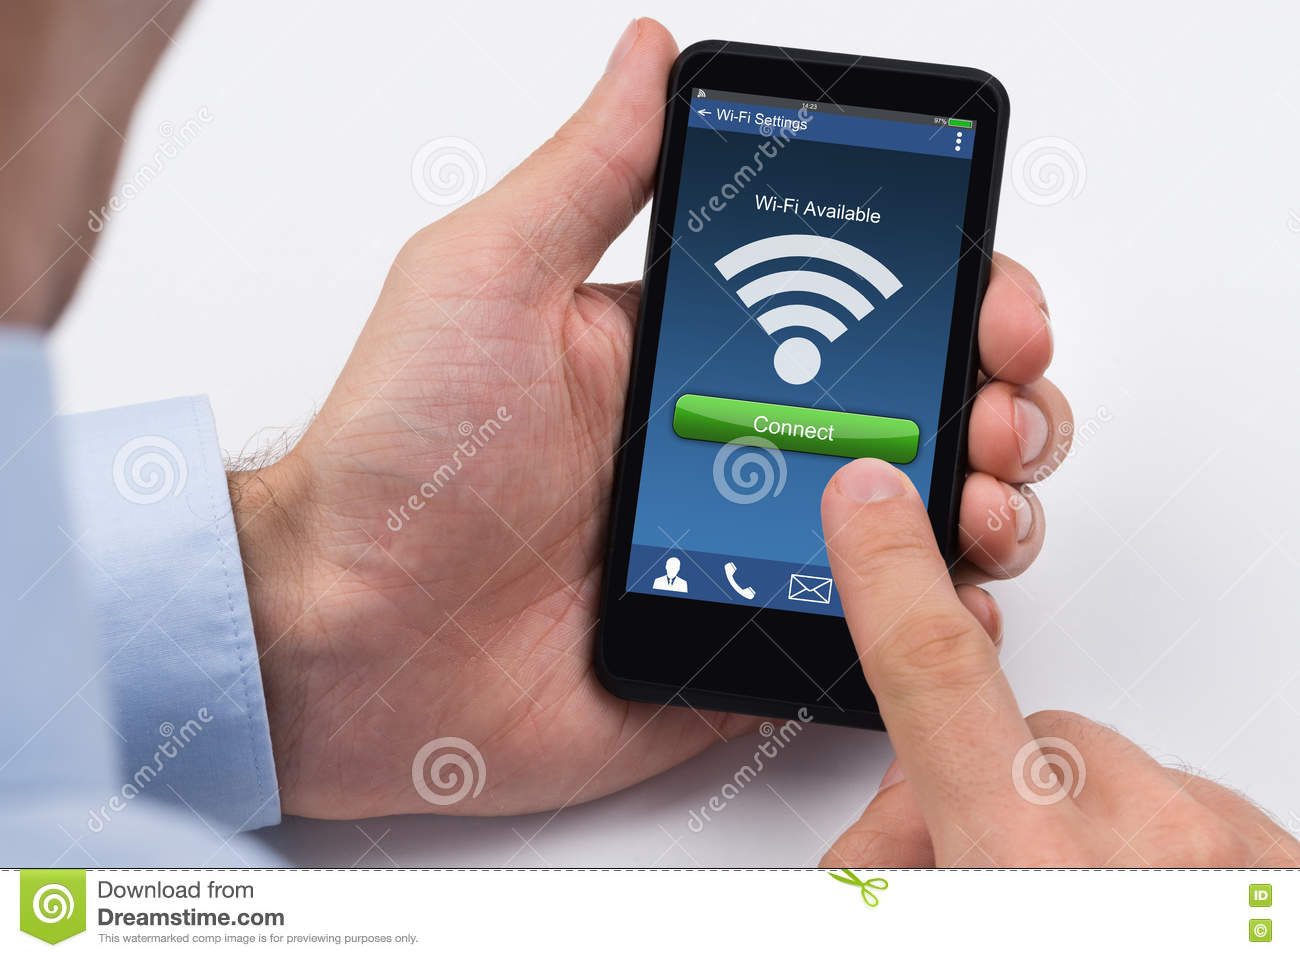smartphone: (591, 42, 1010, 733)
